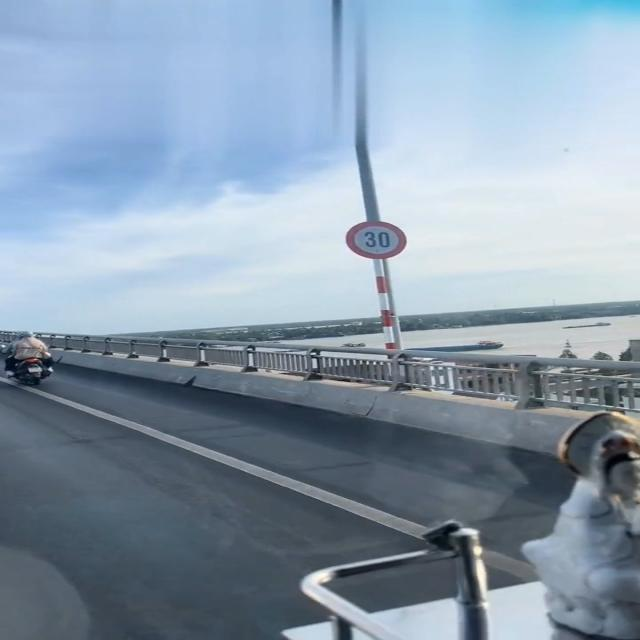127-toc-do-toi-da-30: (345, 220, 408, 260)
